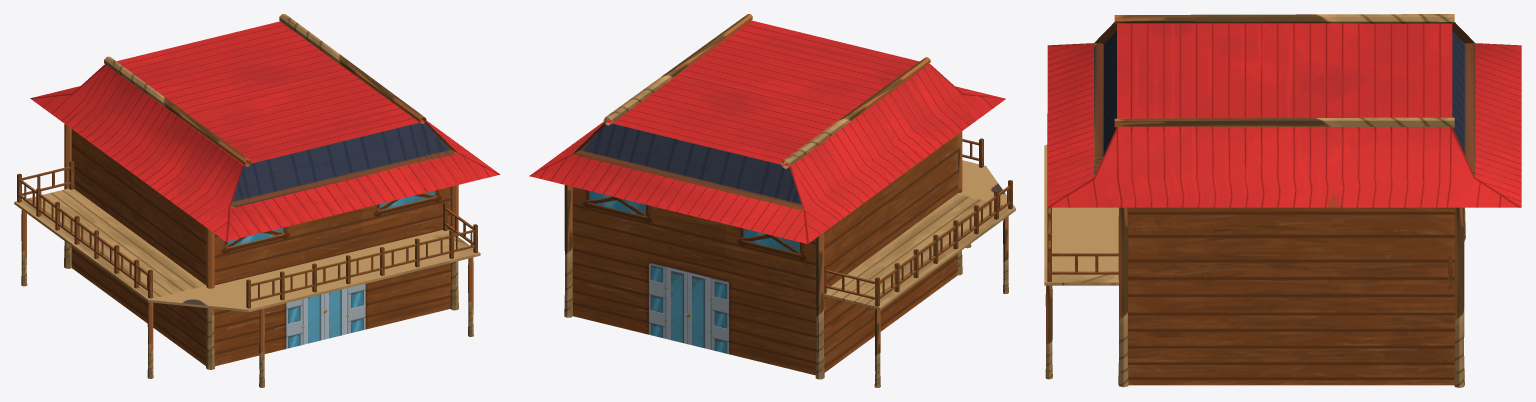
The model's file is beachhouse.FBX.
The picture shows the model from 3 angles, left to right: view 1: azimuth 30°, elevation 25°; view 2: azimuth 150°, elevation 25°; view 3: azimuth 270°, elevation 25°; orthographic projection. The views are drawn at different scales.
Visible parts, largest first — view 1: Box001; view 2: Box001; view 3: Box001.
Part boxes in pixels (box(x1,y1,x2,y2)): Box001: box(14, 14, 499, 387); Box001: box(529, 14, 1015, 387); Box001: box(1044, 14, 1521, 387).
Bounding box in the file's own units: 697 × 748 × 428.
